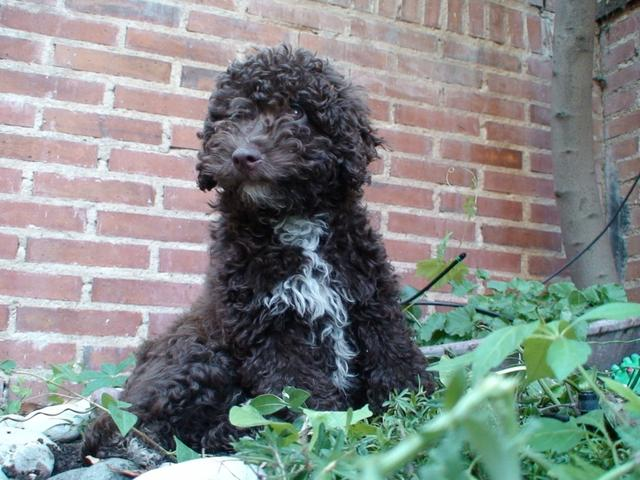dog: (137, 29, 463, 421)
